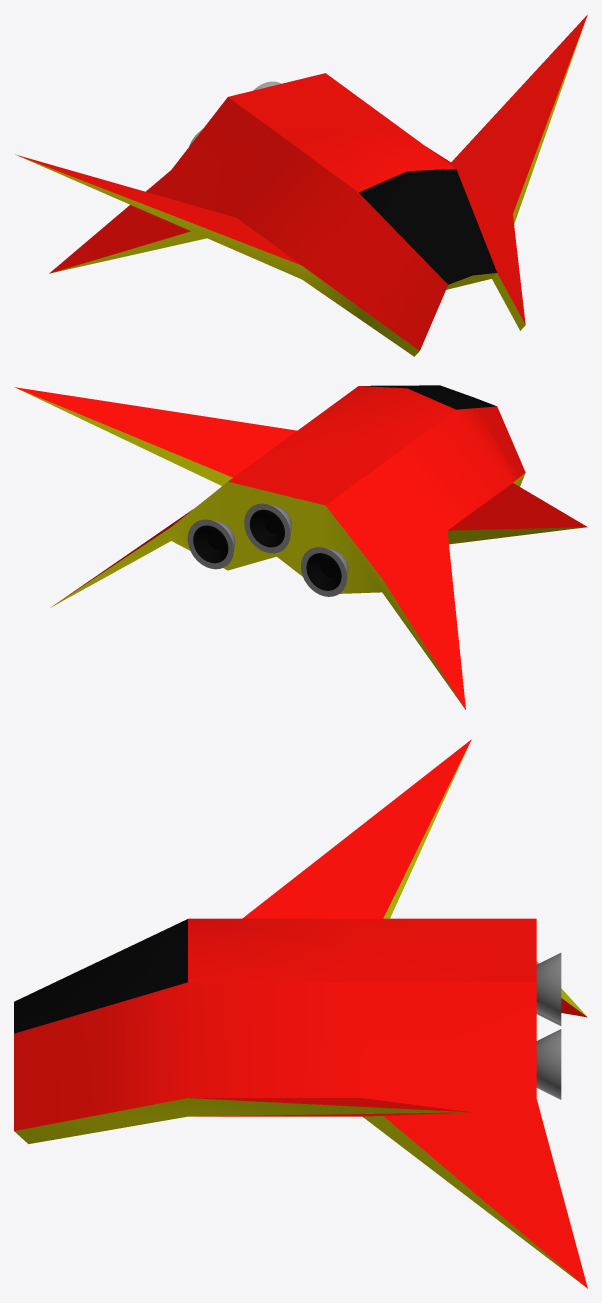
The model's file is EnemySpaceShip.fbx.
3 renders of one model, top to bottom at view 1: azimuth 30°, elevation 25°; view 2: azimuth 150°, elevation 25°; view 3: azimuth 270°, elevation 25°, orthographic. The views are drawn at different scales.
Parts seen in each view (by area): view 1: spaceship; view 2: spaceship; view 3: spaceship.
Boxes of the visible parts, <box> form: spaceship: <box>15,14,587,356</box>; spaceship: <box>14,385,587,709</box>; spaceship: <box>14,739,587,1288</box>.
Size of the model in its own units: 507 by 144 by 329.
